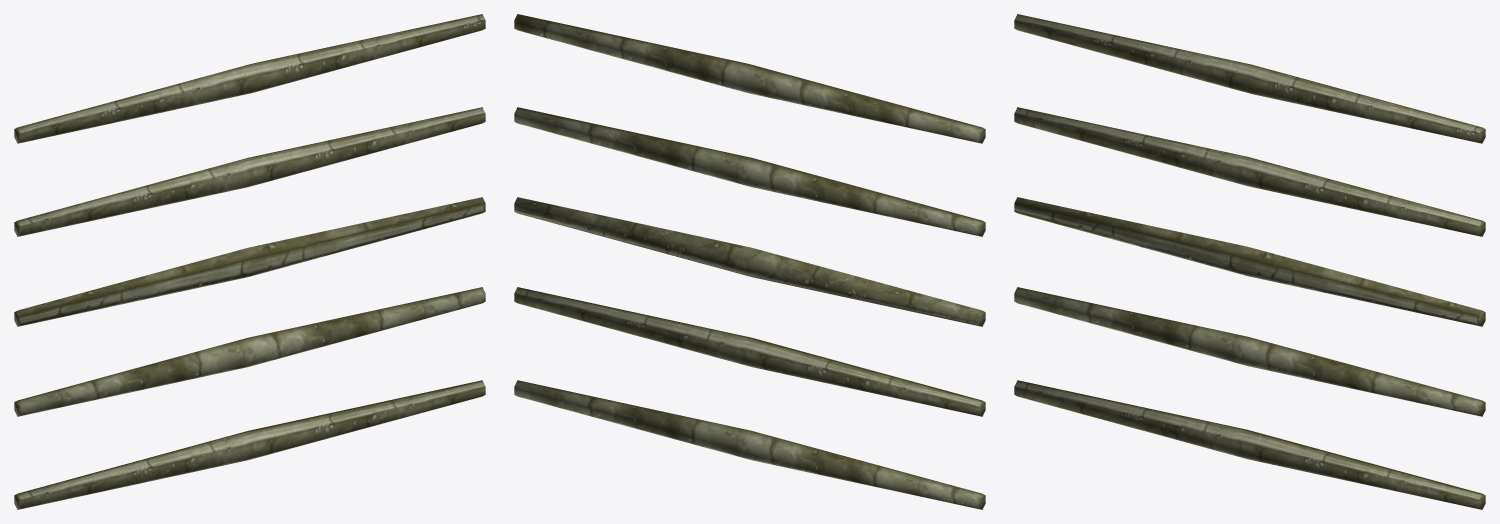
File: blocking-bars-01.fbx
3 renders of one model, left to right at view 1: azimuth 30°, elevation 25°; view 2: azimuth 150°, elevation 25°; view 3: azimuth 330°, elevation 25°, orthographic.
Visible parts, largest first — view 1: Cube.169; view 2: Cube.169; view 3: Cube.169.
Part boxes in pixels (left/top/right/bottom): Cube.169: left=14, top=14, right=485, bottom=509; Cube.169: left=514, top=14, right=985, bottom=509; Cube.169: left=1014, top=14, right=1485, bottom=509.
Size of the model in its own units: 2.09 by 1.7 by 0.0887.
